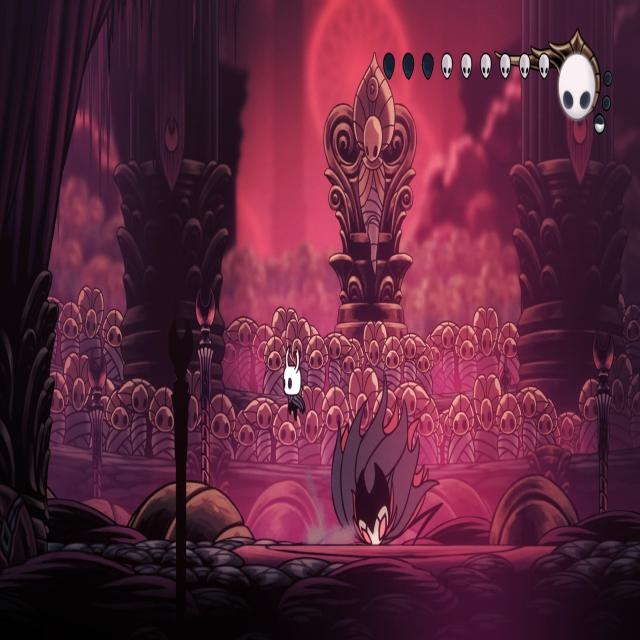Dive Dash: (319, 369, 446, 544)
Player: (279, 340, 307, 426)
